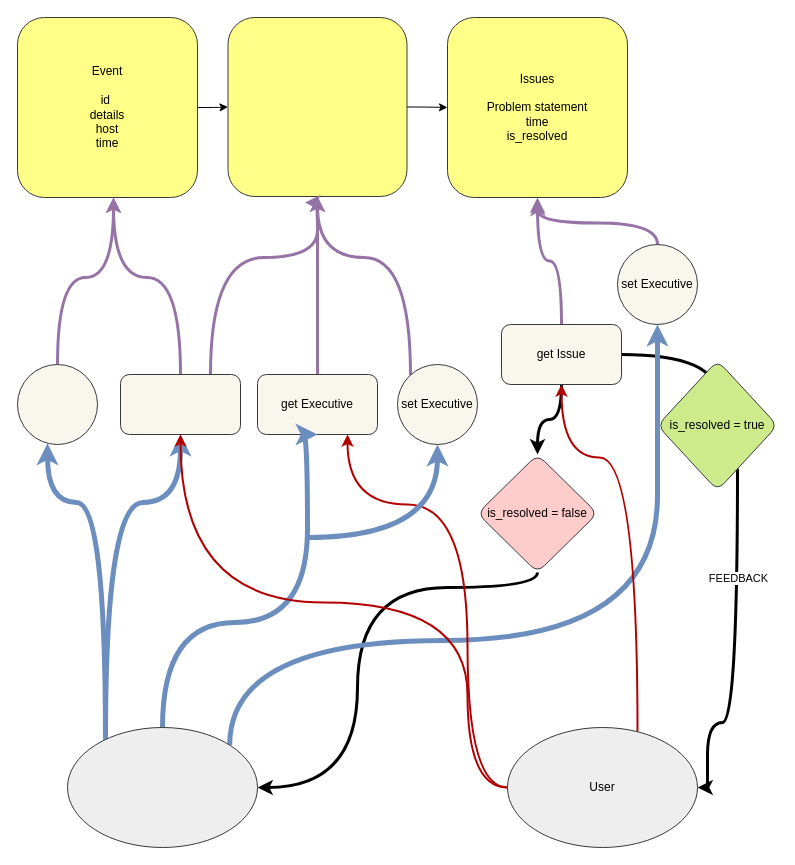
Some shapes in this 795 by 865 pixel diagram are drawn without their labels. Each missing label, with the box of its shape:
Admin: (66, 726, 258, 848)
Executive id Name Bio: (227, 16, 407, 196)
get Event: (120, 374, 240, 434)
set Event: (16, 364, 98, 444)
